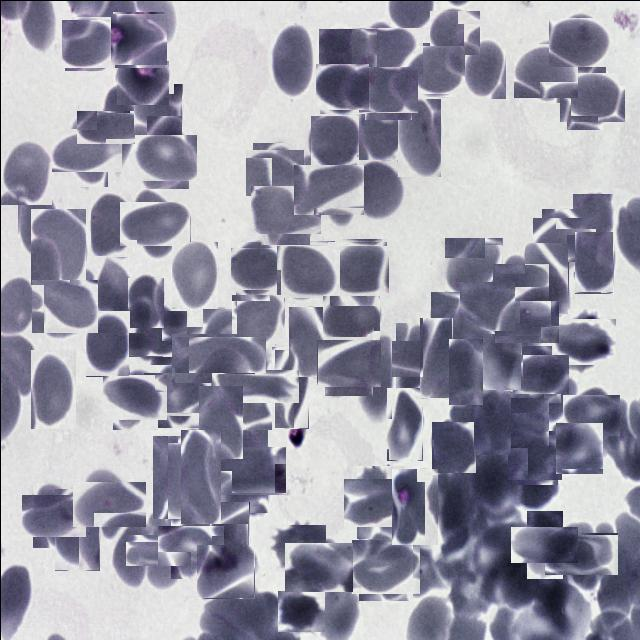red blood cell: (210, 436, 276, 504), (30, 208, 85, 284), (188, 322, 252, 386), (354, 534, 416, 596), (224, 354, 285, 416), (180, 429, 220, 523), (152, 435, 196, 519), (54, 488, 99, 570), (391, 468, 438, 545), (89, 97, 149, 157), (350, 472, 410, 532), (298, 160, 358, 220), (34, 276, 94, 336), (444, 237, 502, 299), (30, 349, 75, 428), (270, 22, 316, 99), (358, 20, 417, 80), (78, 474, 138, 533), (430, 291, 490, 350), (328, 240, 388, 298), (254, 180, 314, 238), (516, 40, 574, 99), (56, 120, 115, 178), (288, 538, 347, 596), (0, 138, 51, 204), (562, 68, 620, 126), (278, 242, 336, 300), (126, 194, 184, 252), (552, 524, 610, 582), (397, 98, 440, 176), (94, 258, 139, 332), (552, 13, 610, 70), (198, 385, 242, 458), (524, 242, 568, 314), (148, 366, 204, 422), (174, 330, 230, 386), (320, 334, 376, 390), (196, 544, 254, 598), (171, 241, 217, 308), (17, 188, 61, 258), (386, 331, 442, 386), (107, 369, 162, 424), (556, 313, 610, 368), (492, 393, 546, 448), (137, 130, 192, 184), (129, 306, 183, 360), (536, 212, 590, 266), (136, 523, 190, 577), (163, 518, 217, 572), (111, 12, 165, 66), (498, 294, 552, 348), (85, 310, 129, 376), (26, 488, 80, 541), (356, 154, 401, 217), (361, 63, 414, 116), (231, 294, 285, 346), (288, 306, 328, 376), (90, 190, 132, 256), (248, 146, 301, 198), (322, 295, 380, 342), (309, 115, 361, 167), (518, 518, 570, 570), (460, 280, 512, 332), (274, 349, 308, 428), (419, 317, 452, 398), (462, 36, 505, 98), (133, 83, 182, 137), (111, 522, 151, 588), (209, 501, 249, 567), (386, 387, 422, 460), (360, 335, 391, 418), (412, 44, 463, 94), (63, 18, 114, 68), (272, 522, 322, 572), (509, 432, 559, 482), (317, 61, 367, 111), (318, 28, 362, 84), (566, 390, 616, 439), (574, 230, 613, 292), (358, 109, 406, 159), (554, 422, 602, 472), (473, 390, 510, 454), (431, 421, 476, 473), (232, 244, 280, 292), (516, 350, 564, 398), (430, 8, 478, 56), (496, 258, 544, 306), (116, 60, 168, 104), (478, 335, 520, 389), (448, 338, 482, 404), (278, 588, 323, 632), (572, 193, 612, 240), (127, 277, 163, 327)
